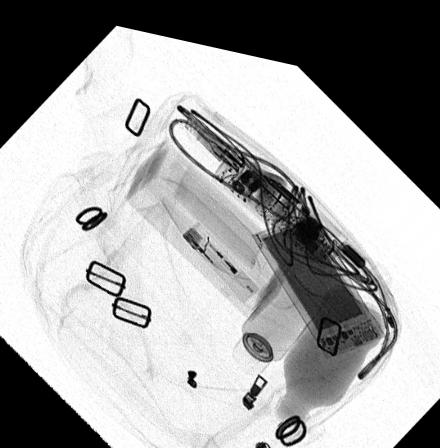Lighter: (181, 212, 259, 291)
Powerbank: (251, 198, 387, 344)
Sprayer: (232, 248, 329, 365)
